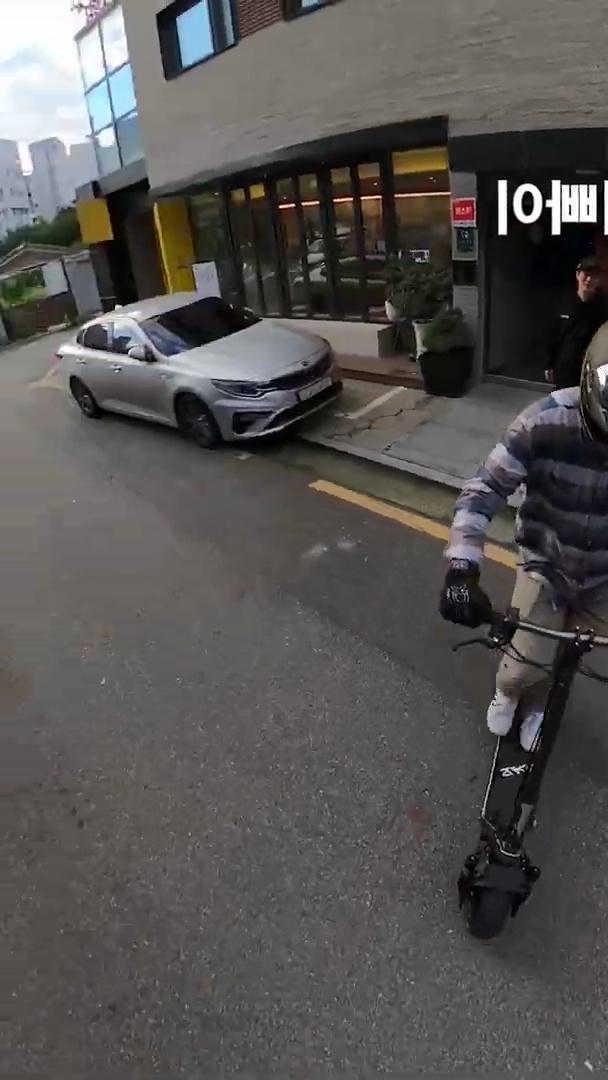helmet: (438, 318, 607, 944)
